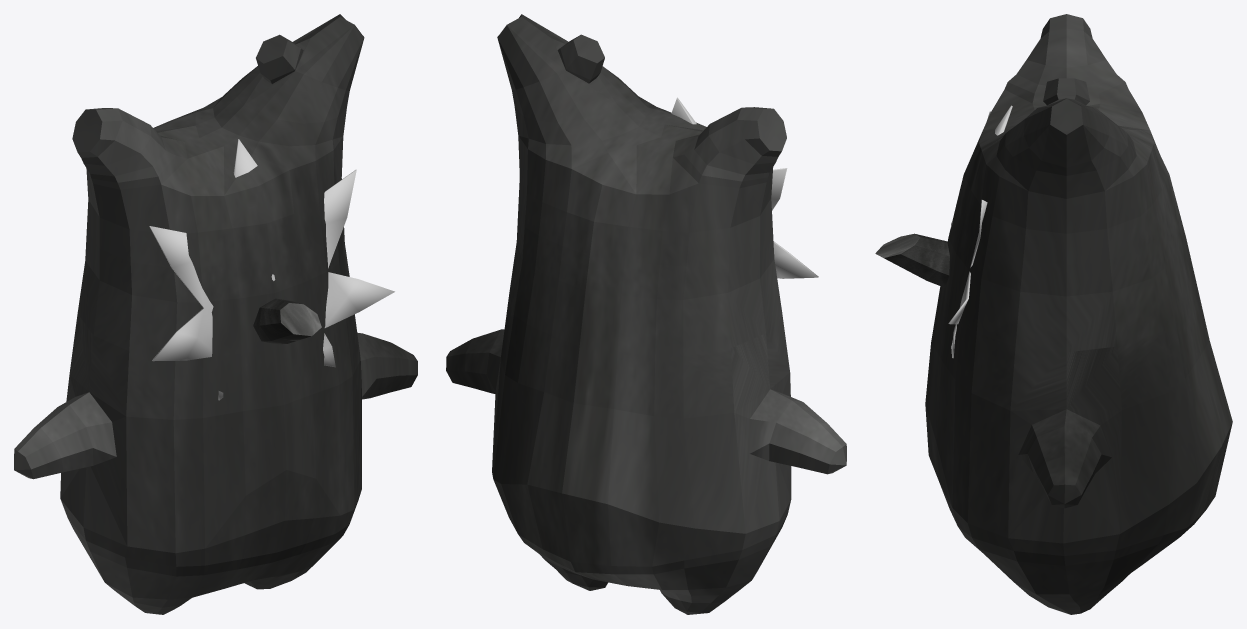
File: frame_0035.obj
3 views of the same model, side by side, from view 1: azimuth 30°, elevation 25°; view 2: azimuth 150°, elevation 25°; view 3: azimuth 270°, elevation 25° (orthographic).
Visible parts, largest first — view 1: korok, leaf.003_柱体.013, nose.003_柱体.011; view 2: korok, leaf.003_柱体.013; view 3: korok, nose.003_柱体.011, leaf.003_柱体.013.
Part boxes in pixels (x1,y1,x2,y2): korok: [14, 14, 417, 614]; leaf.003_柱体.013: [149, 139, 394, 400]; nose.003_柱体.011: [253, 298, 321, 344]; korok: [446, 14, 846, 614]; leaf.003_柱体.013: [671, 97, 818, 278]; korok: [925, 14, 1232, 614]; nose.003_柱体.011: [875, 233, 949, 287]; leaf.003_柱体.013: [948, 105, 1012, 358].
Bounding box in the file's own units: 1.75 × 2.3 × 1.36.
